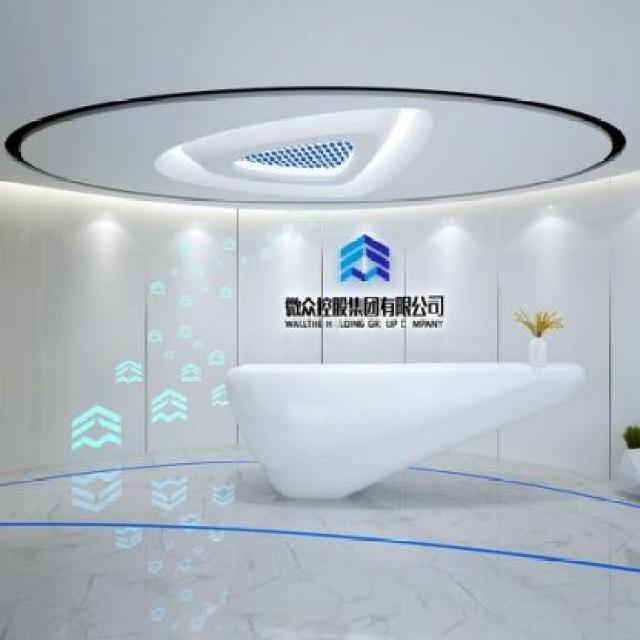frontdesk: (217, 341, 591, 514)
